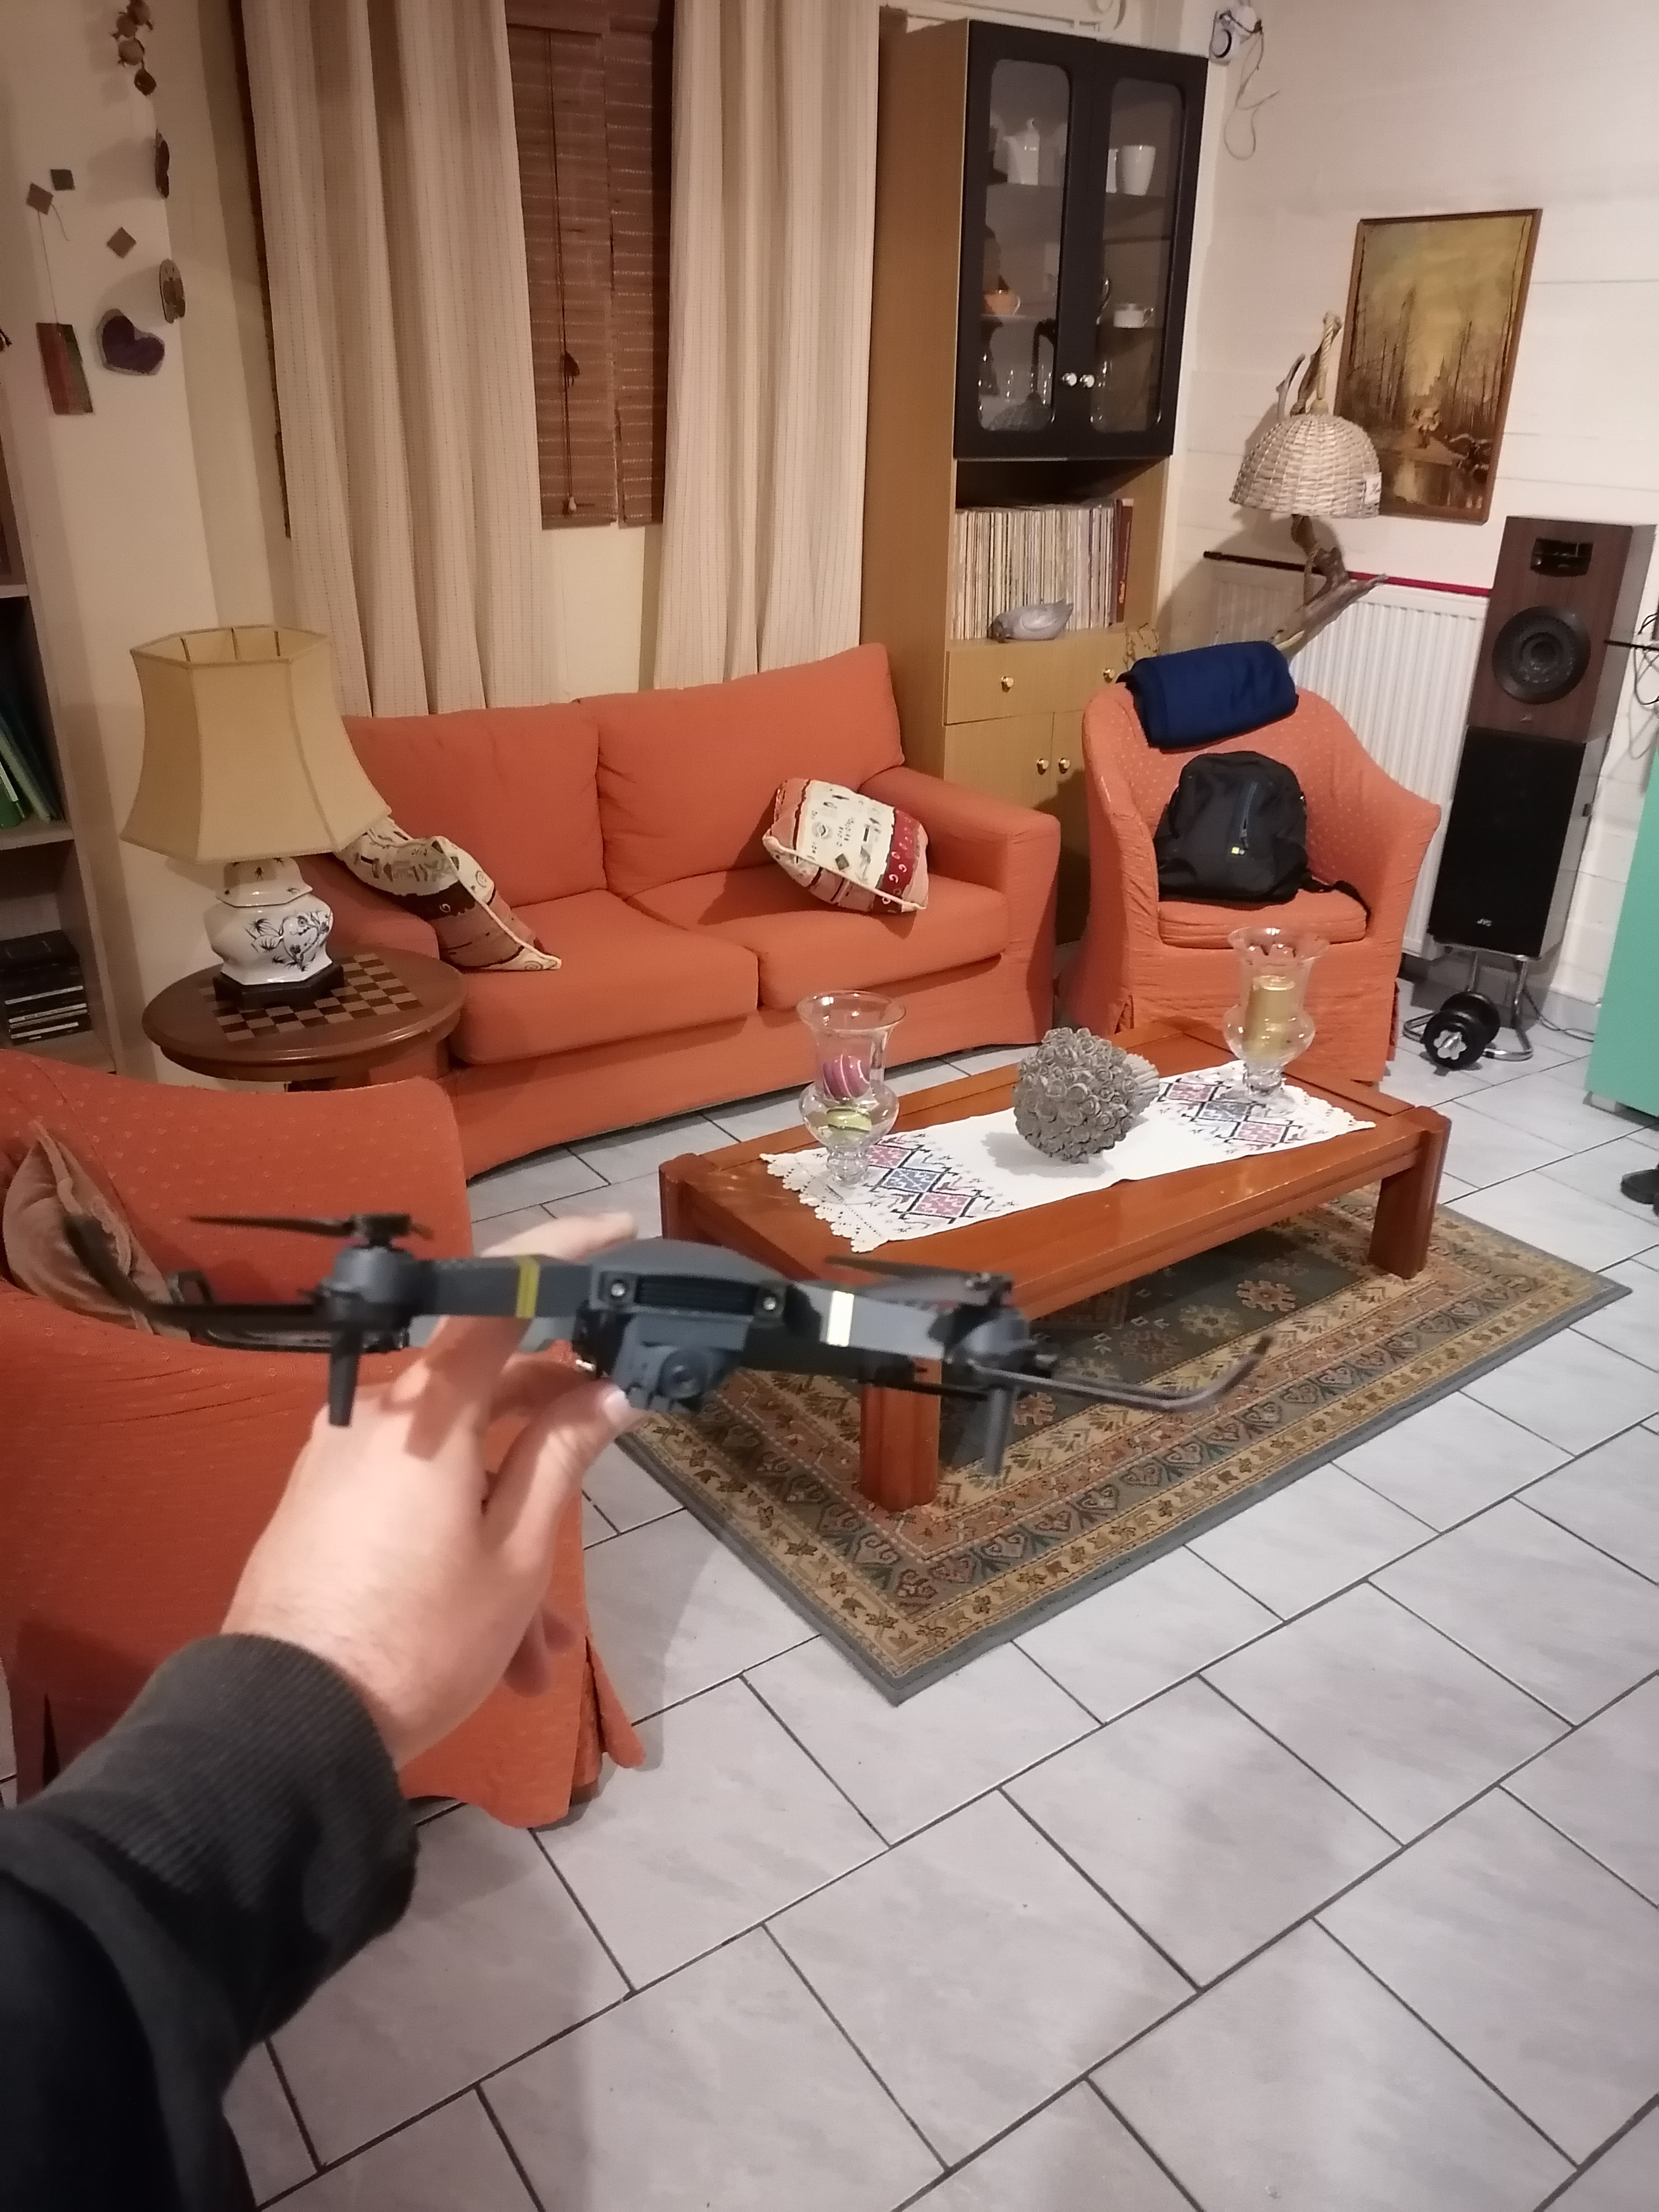drone: (44, 1137, 1298, 1503)
